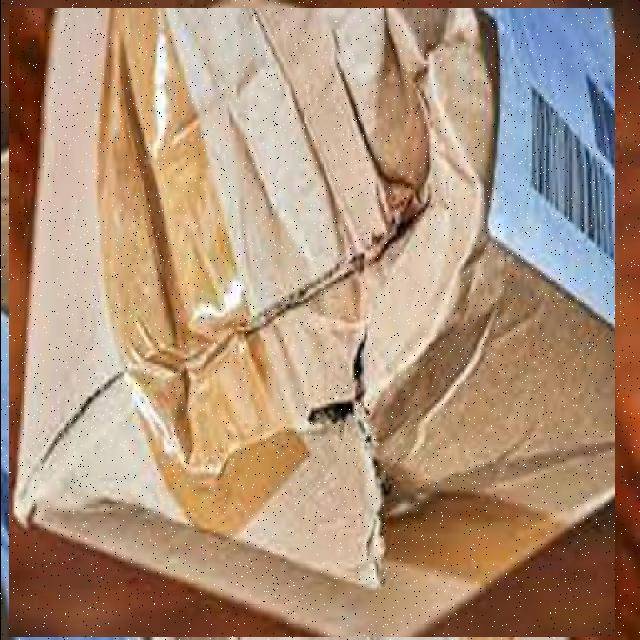defect: (8, 8, 614, 637)
